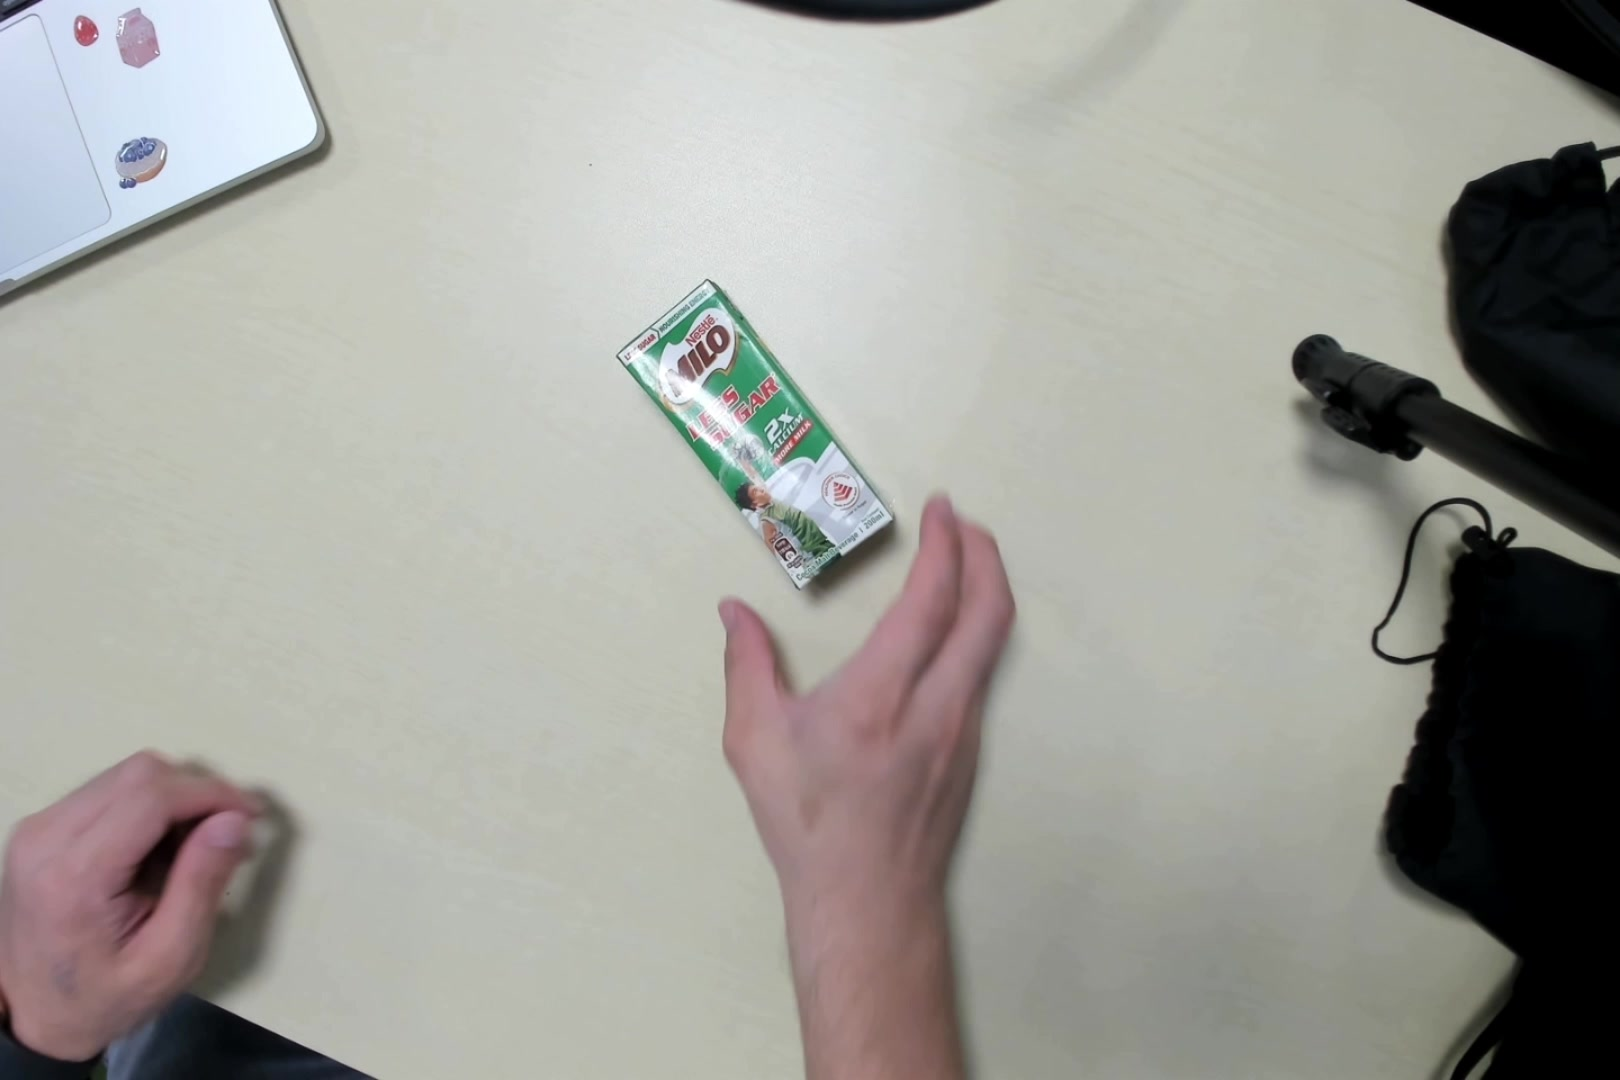SoftDrinksOtherReadyToDrink_100-199g_NonHalal_NonHealthy: (606, 283, 893, 589)
